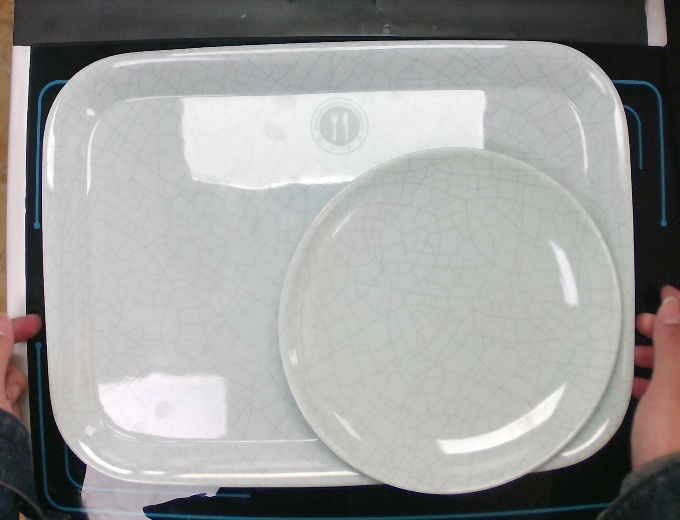JYsf-Da_Yuan_Pan: (270, 139, 629, 500)
